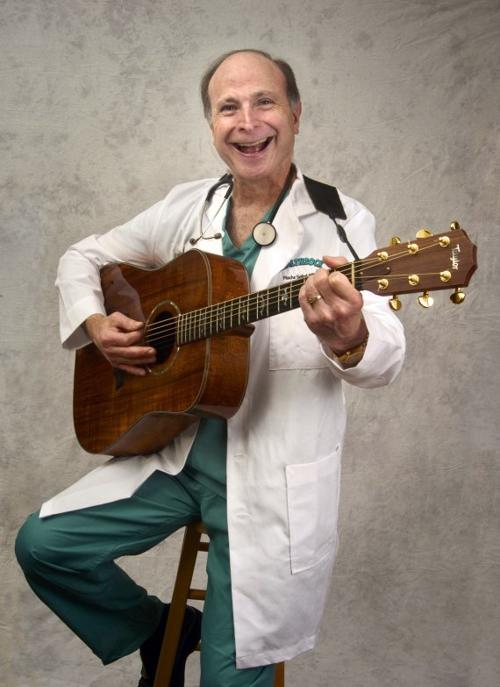person: (15, 47, 406, 686)
